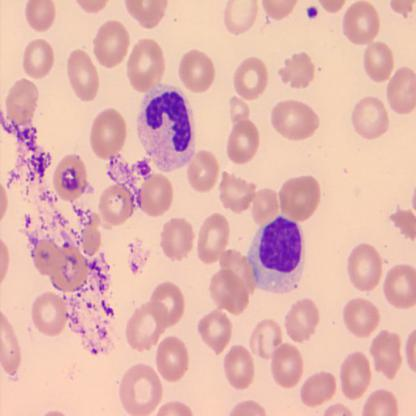Metamyelocyte: (245, 214, 308, 294)
